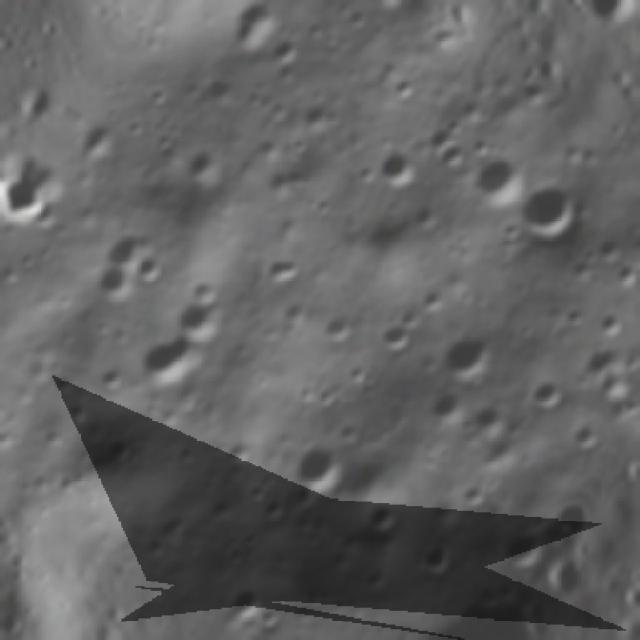crater: (514, 169, 592, 248), (461, 144, 537, 218), (434, 318, 503, 392), (137, 322, 208, 393), (169, 280, 236, 352), (174, 130, 243, 199), (82, 248, 147, 312), (495, 516, 556, 582), (287, 436, 348, 499), (252, 240, 310, 300), (89, 420, 149, 477), (74, 108, 131, 168), (372, 142, 426, 198), (358, 490, 412, 545), (218, 574, 272, 628), (412, 534, 465, 586), (424, 384, 476, 436), (310, 299, 359, 352), (369, 315, 422, 363), (614, 225, 640, 321), (522, 370, 569, 419), (562, 413, 609, 461), (261, 31, 307, 78), (90, 357, 133, 401), (130, 248, 172, 292), (436, 131, 478, 175), (385, 66, 427, 106), (591, 308, 632, 348), (559, 296, 595, 332), (256, 601, 290, 633)
